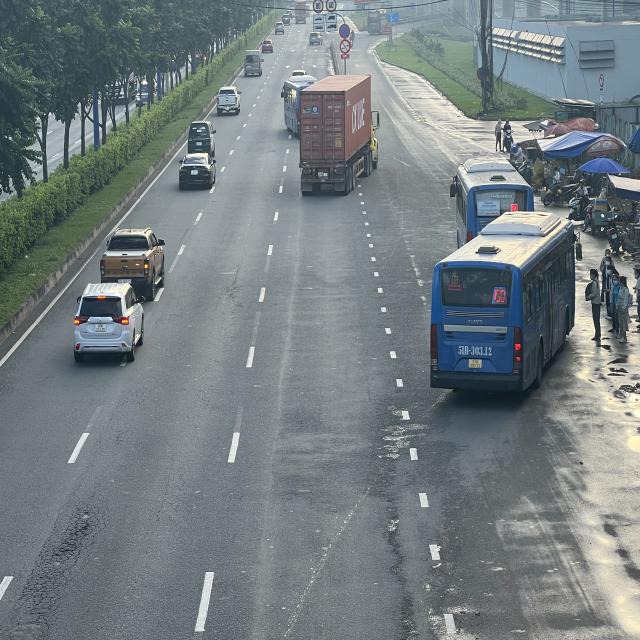car: (72, 283, 145, 362), (101, 230, 166, 297), (216, 86, 240, 117)
coach: (427, 207, 573, 400), (450, 158, 534, 228)
container: (300, 76, 381, 196)
van: (186, 118, 217, 157), (244, 51, 263, 78)
